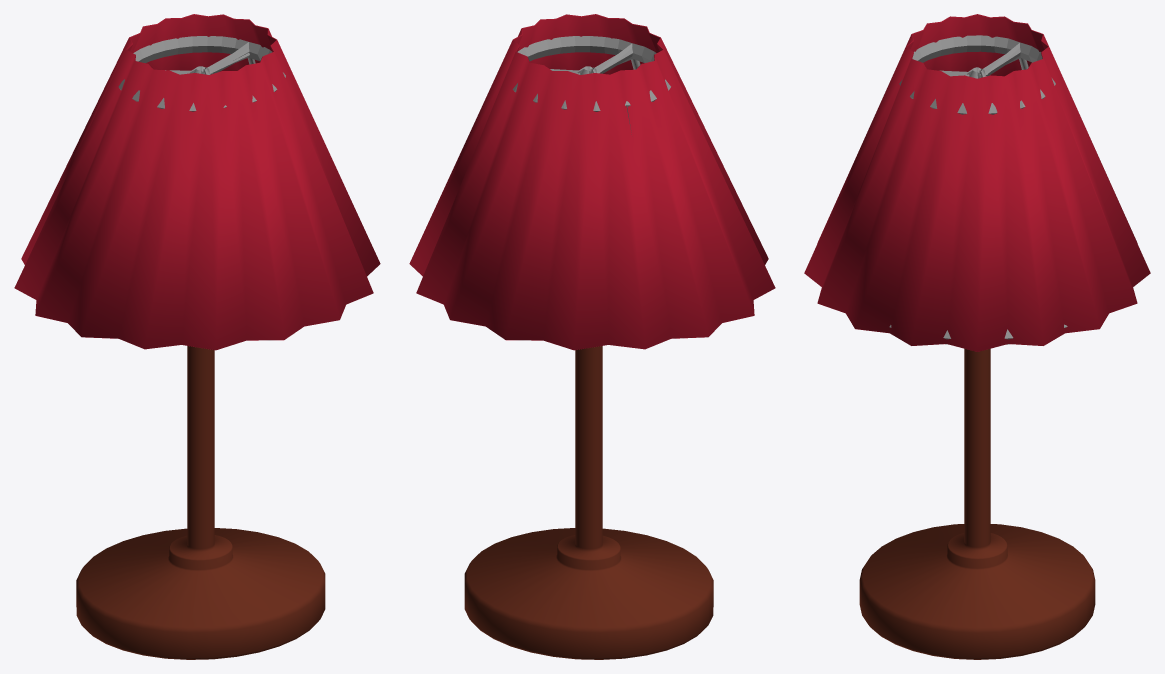
File: lamp_nightstand.glb
3 views of the same model, side by side, from view 1: azimuth 30°, elevation 25°; view 2: azimuth 150°, elevation 25°; view 3: azimuth 270°, elevation 25° (orthographic).
Visible parts, largest first — view 1: Circle.001, STAND, WIRE; view 2: Circle.001, STAND, WIRE; view 3: Circle.001, STAND, WIRE.
Part boxes in pixels (box(x1,y1,x2,y2)): Circle.001: box(14, 14, 380, 350); STAND: box(76, 346, 325, 659); WIRE: box(118, 36, 285, 111); Circle.001: box(409, 14, 775, 350); STAND: box(464, 346, 713, 659); WIRE: box(512, 36, 670, 134); Circle.001: box(804, 14, 1150, 351); STAND: box(859, 348, 1095, 659); WIRE: box(889, 35, 1067, 344).
Bounding box in the file's own units: 1.18 × 1.96 × 1.1.
